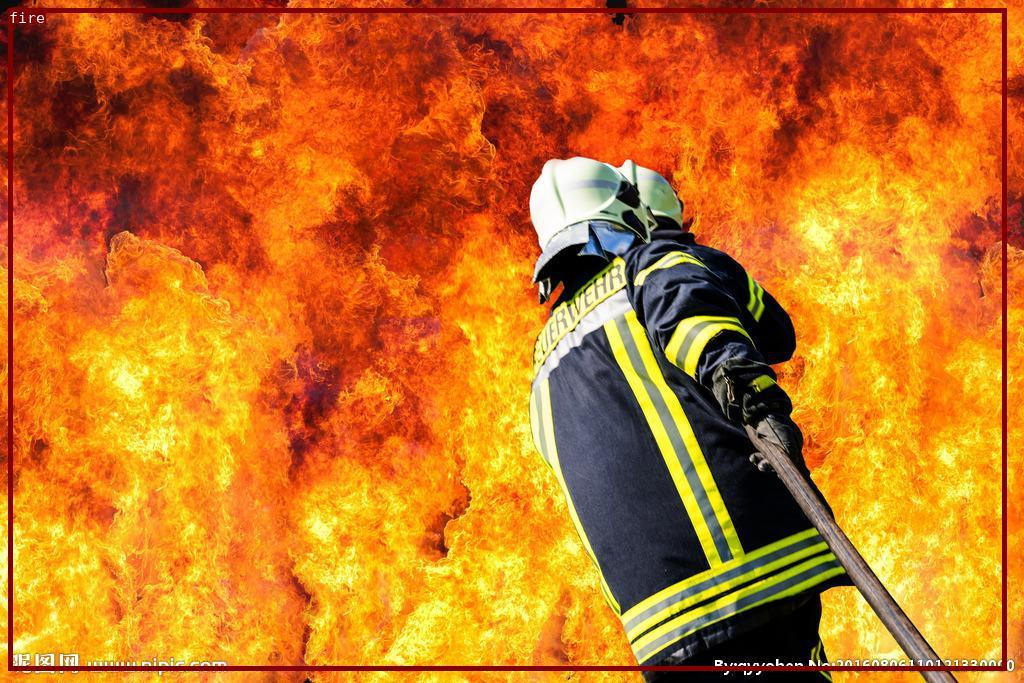fire: (7, 7, 1005, 670)
